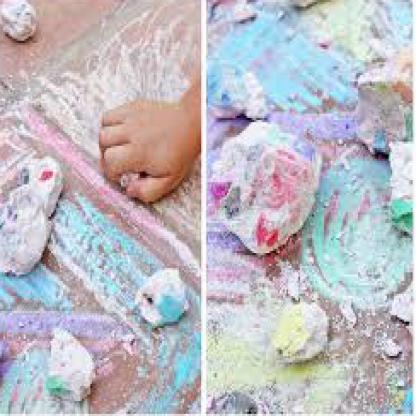Sedimentary_Chalk: (234, 128, 317, 244), (46, 339, 107, 392)
